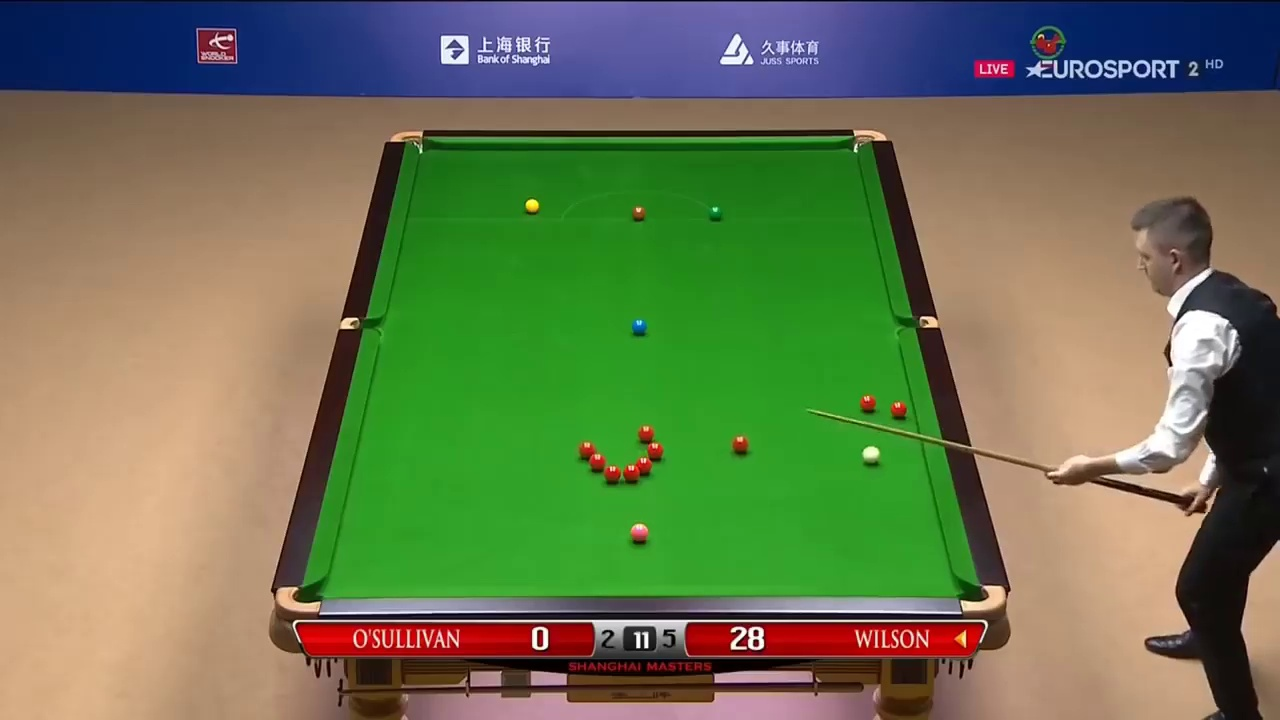ball: (890, 398, 909, 421), (630, 519, 649, 541), (638, 421, 656, 440), (707, 202, 727, 219), (858, 392, 875, 412), (523, 197, 541, 215), (862, 447, 878, 465), (630, 317, 649, 331), (632, 205, 647, 221), (732, 435, 747, 451)
